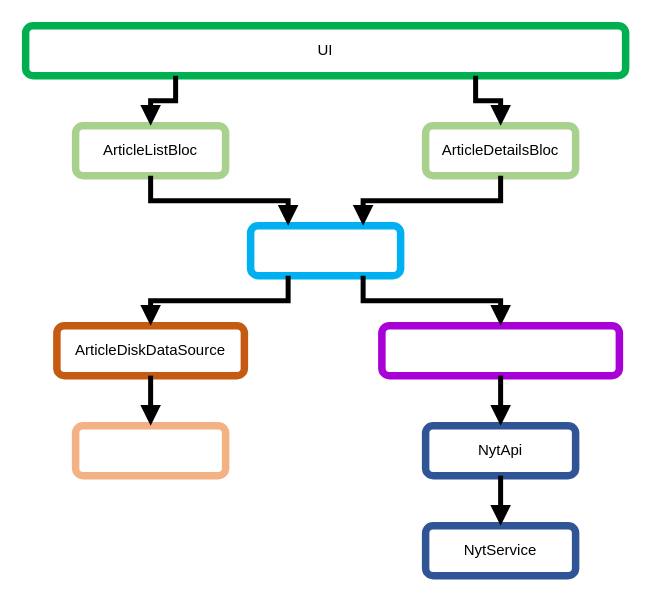
The diagram is 650 pixels wide and 600 high, and some of its shapes have lost their labels. Here are the shapes that lost their labels. From the top down, the box of each, then its label:
(246, 221, 404, 279): ArticleInteractor
(378, 321, 622, 379): ArticleNetworkDataSource
(71, 421, 229, 479): ArticleDao
